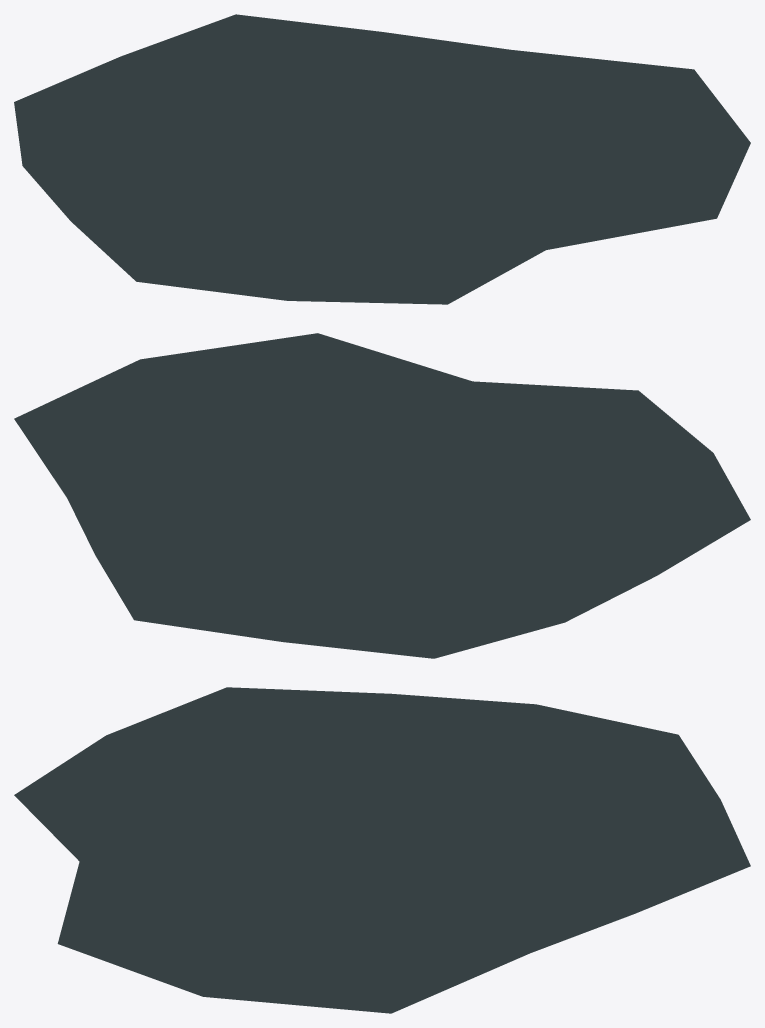
The model's file is SM_Prop_Puddle_01.glb.
3 renders of one model, top to bottom at view 1: azimuth 30°, elevation 25°; view 2: azimuth 150°, elevation 25°; view 3: azimuth 270°, elevation 25°, orthographic. The views are drawn at different scales.
Parts seen in each view (by area): view 1: SM_Prop_Puddle_01; view 2: SM_Prop_Puddle_01; view 3: SM_Prop_Puddle_01.
Part boxes in pixels (x1,y1,x2,y2): SM_Prop_Puddle_01: [14, 14, 750, 304]; SM_Prop_Puddle_01: [14, 333, 750, 658]; SM_Prop_Puddle_01: [14, 687, 750, 1013].
Bounding box in the file's own units: 4.03 × 1.68e-07 × 3.84.
Materials: 1 (1 with a texture image).
